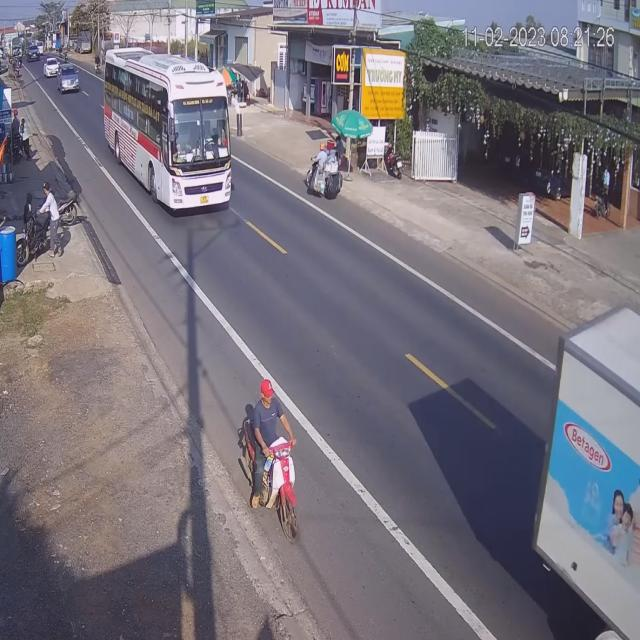bus: (100, 46, 236, 218)
car: (60, 64, 82, 96), (43, 54, 59, 78)
motorbike: (241, 379, 300, 543), (304, 140, 342, 202)
truck: (535, 298, 640, 640)
